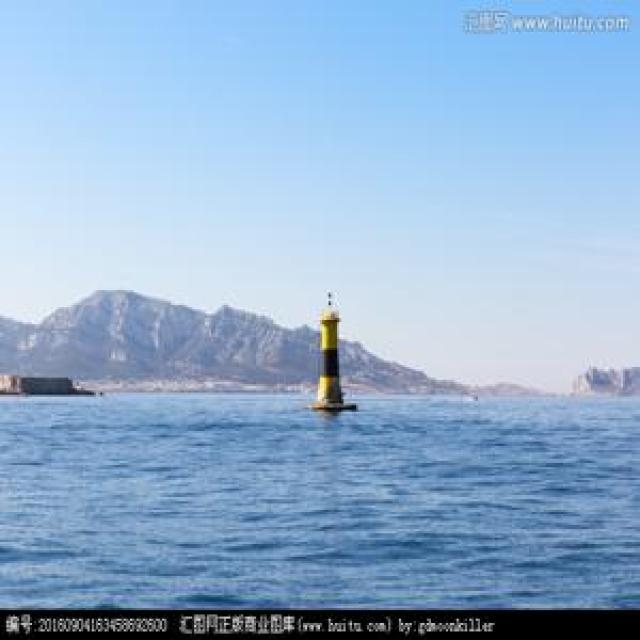navalvessels: (283, 287, 366, 413)
